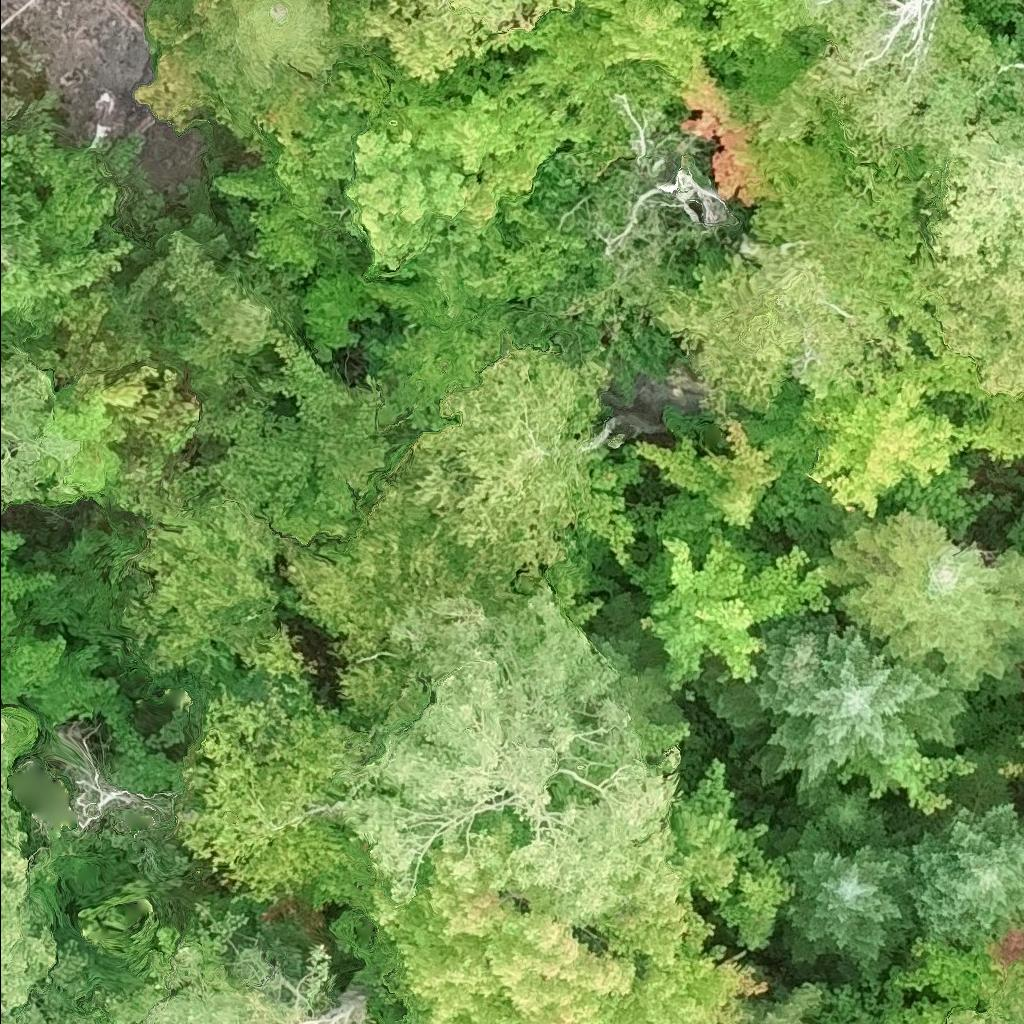crown: (0, 713, 112, 1023)
